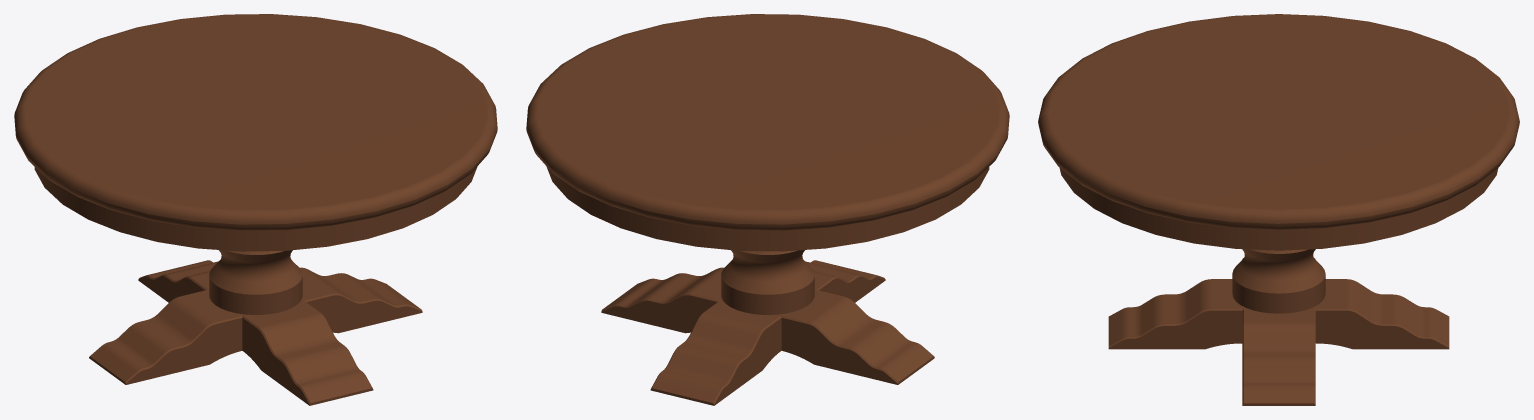
File: TableRonde_34.fbx
3 renders of one model, left to right at view 1: azimuth 30°, elevation 25°; view 2: azimuth 150°, elevation 25°; view 3: azimuth 270°, elevation 25°, orthographic.
Parts seen in each view (by area): view 1: pCylinder17, pCube21, pCube22, pCube20, pCube23; view 2: pCylinder17, pCube21, pCube23, pCube20, pCube22; view 3: pCylinder17, pCube23, pCube22, pCube20.
Boxes of the visible parts, x1=… form: pCylinder17: x1=14, y1=14, x2=497, y2=314; pCube21: x1=89, y1=290, x2=242, y2=384; pCube22: x1=241, y1=301, x2=373, y2=405; pCube20: x1=206, y1=267, x2=422, y2=333; pCube23: x1=138, y1=260, x2=218, y2=302; pCylinder17: x1=526, y1=14, x2=1009, y2=314; pCube21: x1=781, y1=290, x2=934, y2=384; pCube23: x1=650, y1=301, x2=782, y2=405; pCube20: x1=601, y1=267, x2=817, y2=333; pCube22: x1=805, y1=260, x2=885, y2=302; pCylinder17: x1=1038, y1=14, x2=1519, y2=313; pCube23: x1=1309, y1=279, x2=1449, y2=349; pCube22: x1=1108, y1=279, x2=1248, y2=349; pCube20: x1=1242, y1=309, x2=1315, y2=405.
Size of the model in its own units: 54.72 by 27.81 by 54.72.
